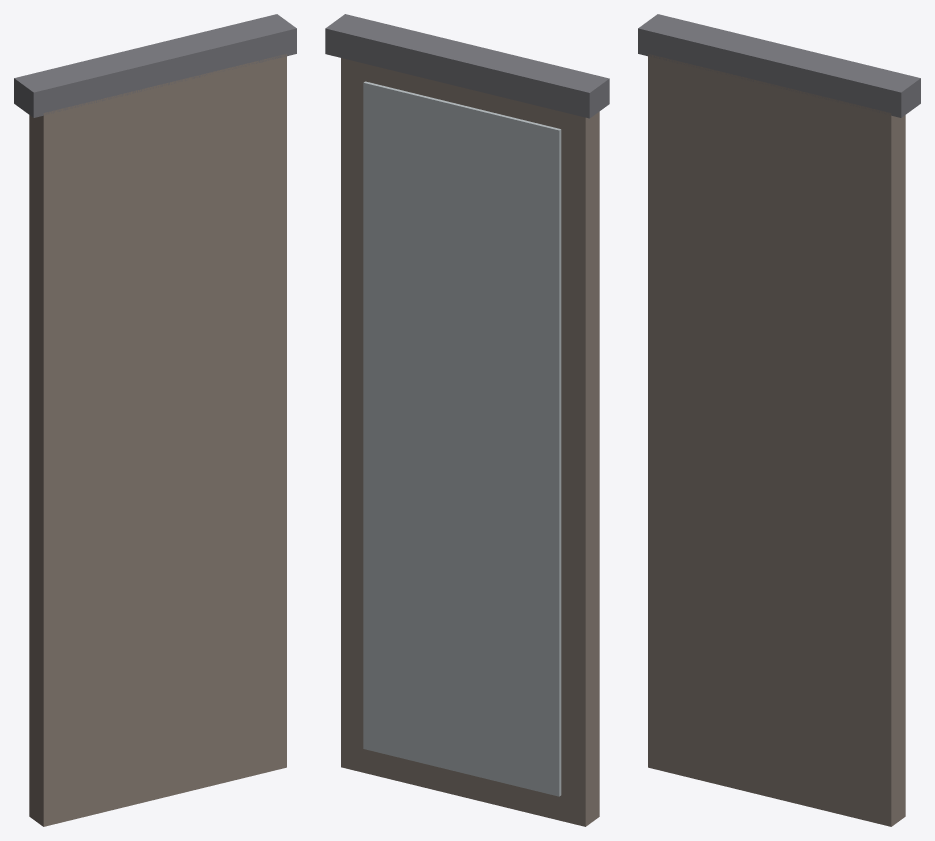
File: parede_espelho_corredor.glb
3 renders of one model, left to right at view 1: azimuth 30°, elevation 25°; view 2: azimuth 150°, elevation 25°; view 3: azimuth 330°, elevation 25°, orthographic.
Visible parts, largest first — view 1: PAREDE_ESPELHO_CORREDOR_v01; view 2: PAREDE_ESPELHO_CORREDOR_v01; view 3: PAREDE_ESPELHO_CORREDOR_v01.
Part boxes in pixels (x1,y1,x2,y2): PAREDE_ESPELHO_CORREDOR_v01: (14,14,296,826); PAREDE_ESPELHO_CORREDOR_v01: (325,14,609,826); PAREDE_ESPELHO_CORREDOR_v01: (638,14,920,826).
Bounding box in the file's own units: 0.54 × 1.44 × 0.07.
